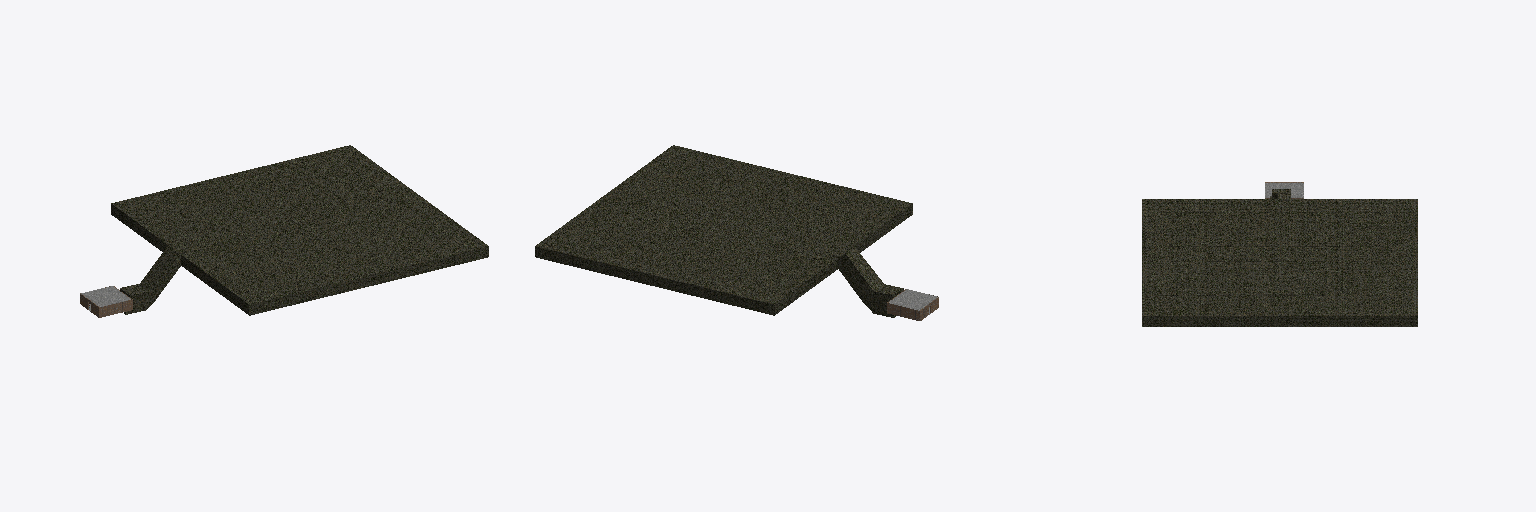
3 views of the same model, side by side, from view 1: azimuth 30°, elevation 25°; view 2: azimuth 150°, elevation 25°; view 3: azimuth 270°, elevation 25° (orthographic).
Parts seen in each view (by area): view 1: Plane.002, Plane, Cube.001, Plane.005, Plane.004; view 2: Plane.002, Plane, Cube, Plane.005, Plane.004; view 3: Plane.002, Plane.
Part boxes in pixels (left/top/right/bottom): Plane.002: left=119, top=148, right=479, bottom=300; Plane: left=111, top=145, right=488, bottom=315; Cube.001: left=124, top=249, right=180, bottom=314; Plane.005: left=81, top=286, right=130, bottom=306; Plane.004: left=80, top=286, right=132, bottom=317; Plane.002: left=544, top=148, right=904, bottom=300; Plane: left=535, top=145, right=912, bottom=315; Cube: left=838, top=250, right=898, bottom=317; Plane.005: left=889, top=289, right=937, bottom=310; Plane.004: left=887, top=289, right=938, bottom=320; Plane.002: left=1148, top=201, right=1411, bottom=316; Plane: left=1142, top=194, right=1417, bottom=326.
Size of the model in its own units: 103 by 15.99 by 75.
Materials: 6 (6 with a texture image).